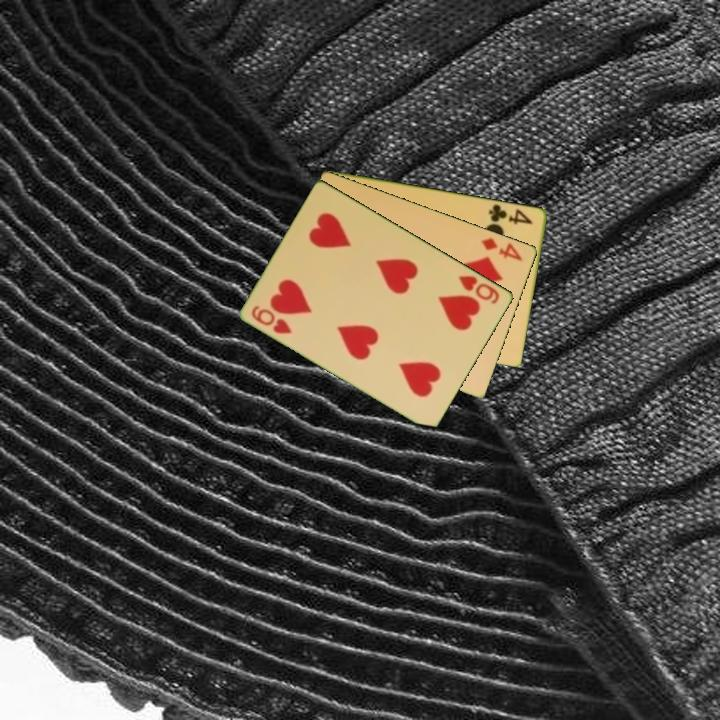4c: (485, 200, 536, 227)
4d: (478, 234, 526, 264)
6h: (248, 301, 295, 337), (455, 272, 503, 307)
